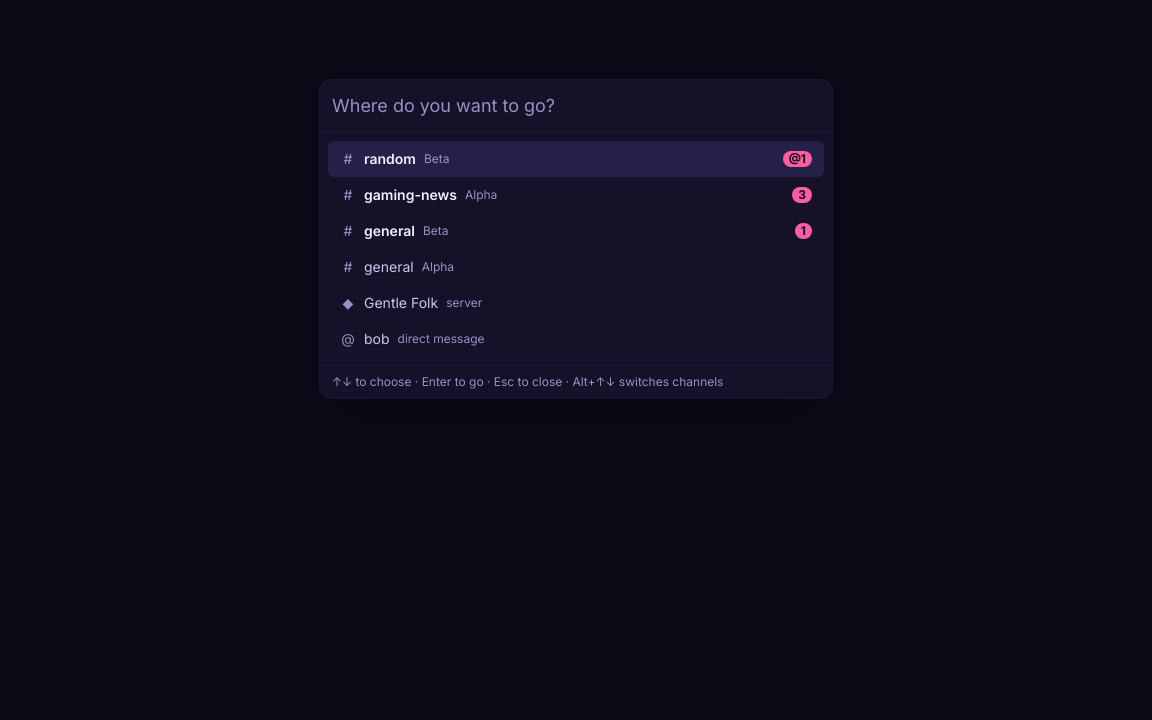
Test case: says so when nothing matches
Type "zzzz" into the dropdown labelled "Where do you want to go?".
click(576, 106); type("zzzz")  # box [332, 92, 820, 120]
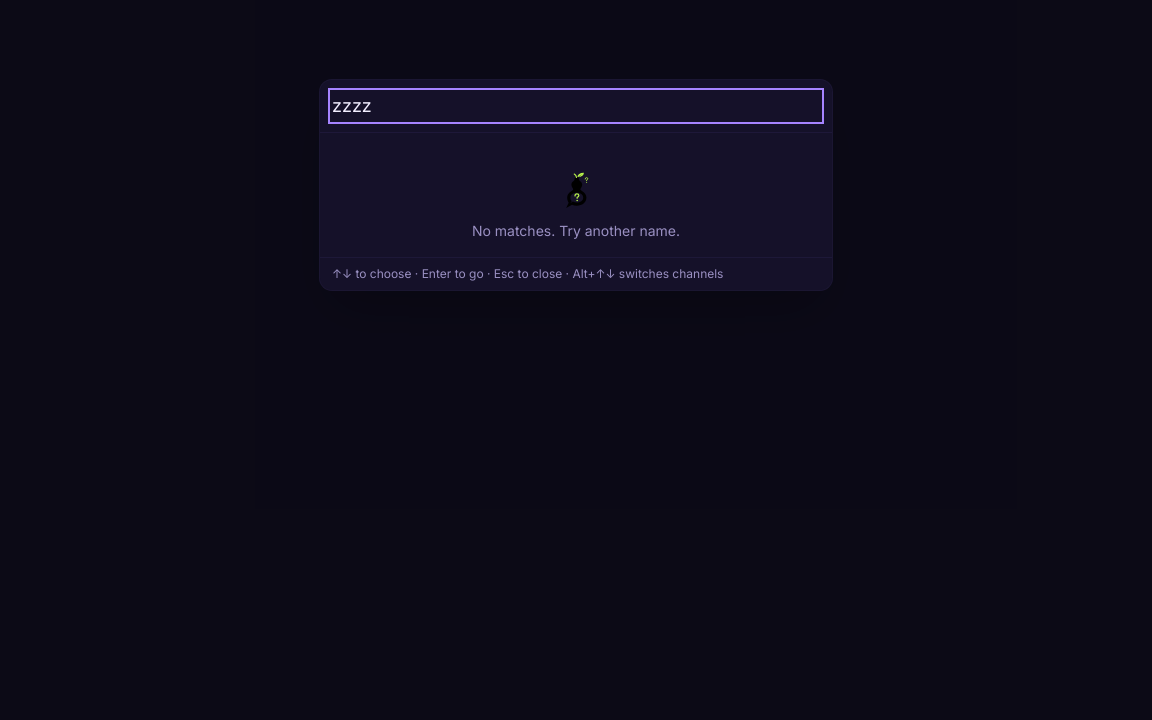
Check: no options are shown
Check: the text "No matches. Try another name." is shown, box [472, 165, 680, 239]
